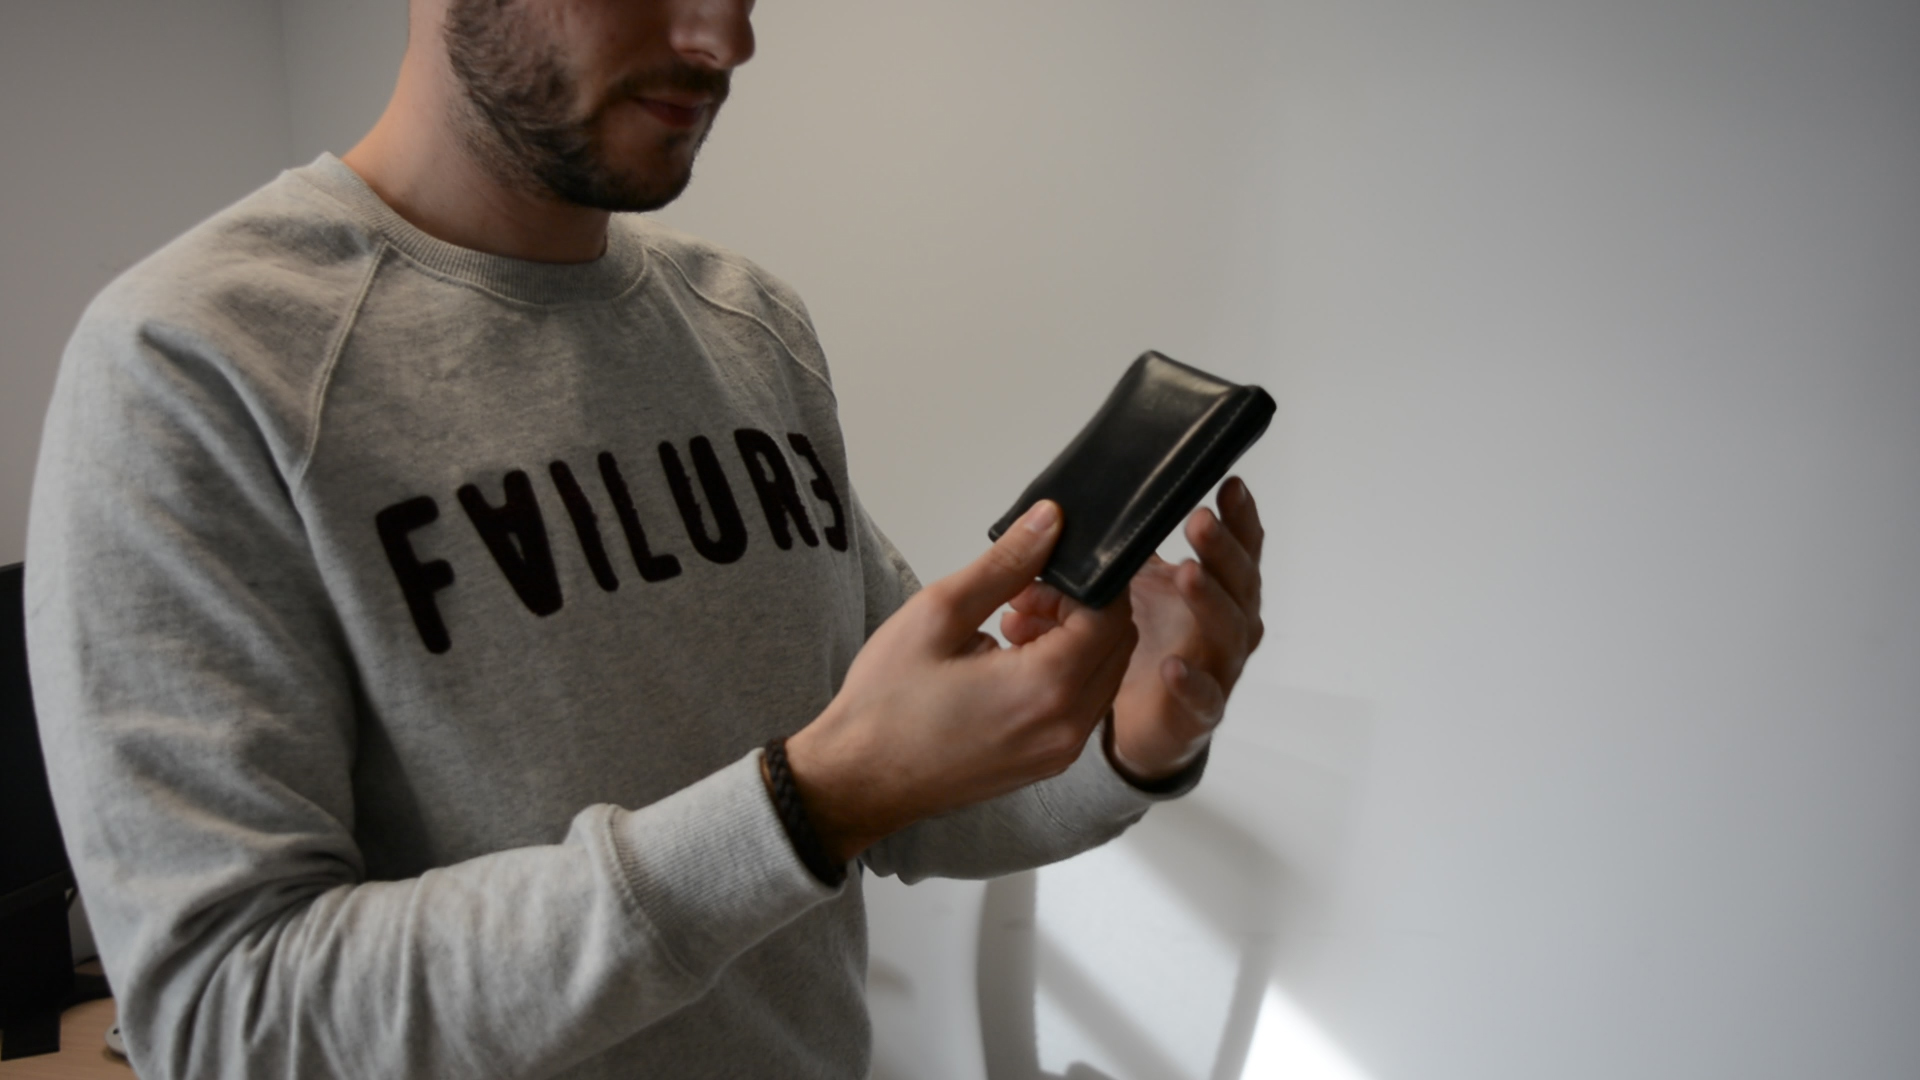monedero: (986, 348, 1279, 611)
